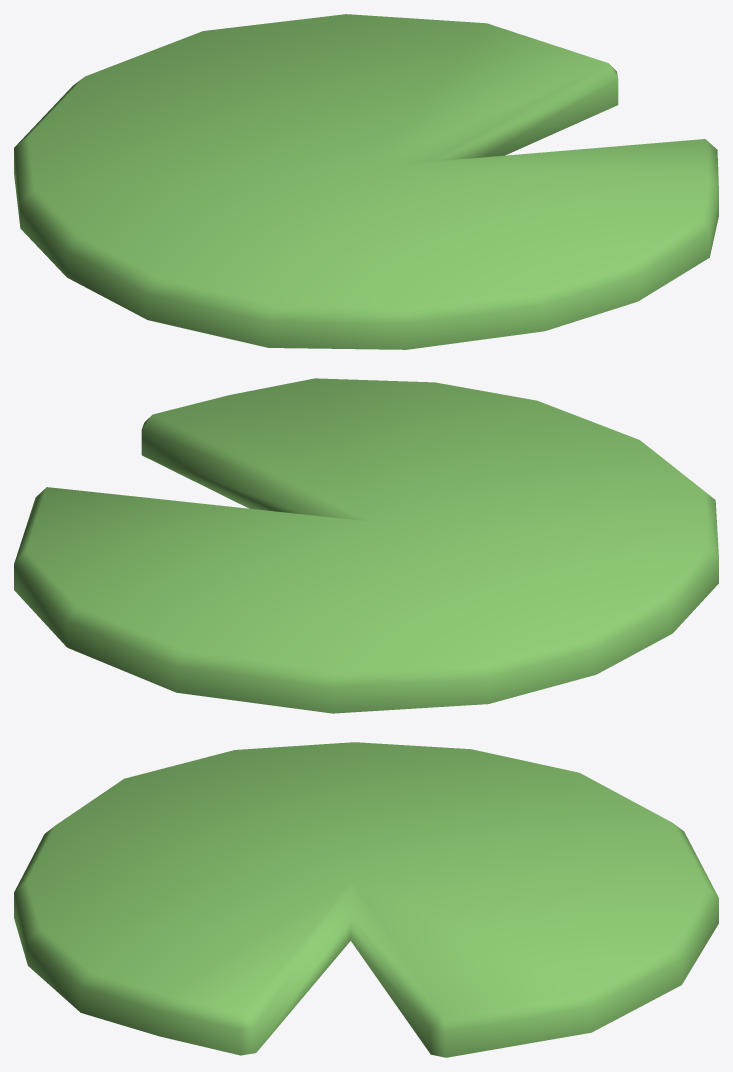
File: lilypad.glb
3 views of the same model, one above another, from view 1: azimuth 30°, elevation 25°; view 2: azimuth 150°, elevation 25°; view 3: azimuth 270°, elevation 25° (orthographic). The views are drawn at different scales.
Visible parts, largest first — view 1: pad; view 2: pad; view 3: pad.
Part boxes in pixels (box(x1,y1,x2,y2)): pad: box(14, 14, 718, 349); pad: box(14, 378, 718, 713); pad: box(14, 742, 718, 1057).
Bounding box in the file's own units: 0.3993 × 0.0243 × 0.4184.
